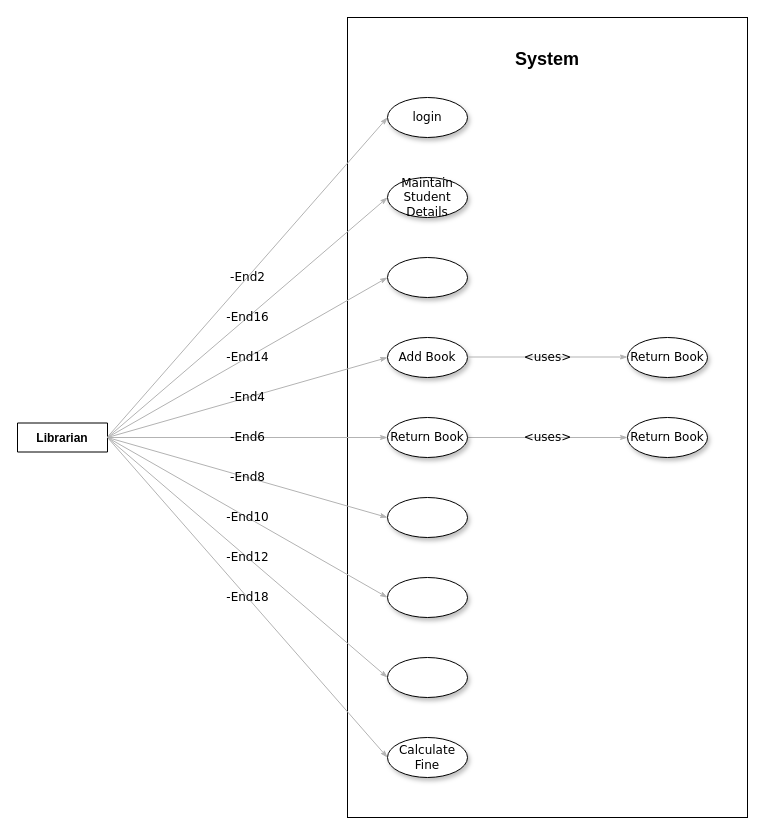
Image size: 765x835. Some labels were removed from this diagram. Here are the shapes that lost their labels. From the top down, the centre of each, then its label:
At point (428, 278): "Issue Book".
At point (428, 518): "Maintain Catalogue".
At point (428, 598): "Search Book".
At point (428, 678): "Generate Report".
